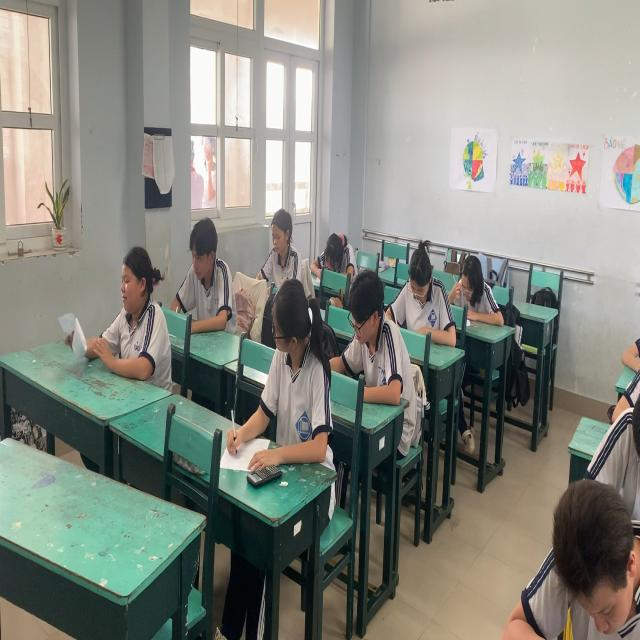cheating: (254, 271, 327, 462)
not_cheating: (539, 457, 637, 636), (102, 233, 166, 394), (342, 268, 409, 407), (172, 210, 232, 333), (396, 239, 451, 355), (256, 206, 307, 290), (457, 249, 488, 323), (320, 223, 354, 279)
